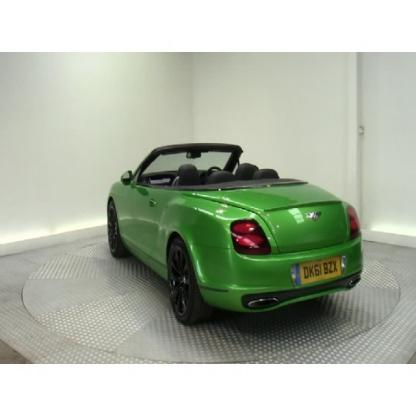Vehicle: (106, 140, 366, 325)
